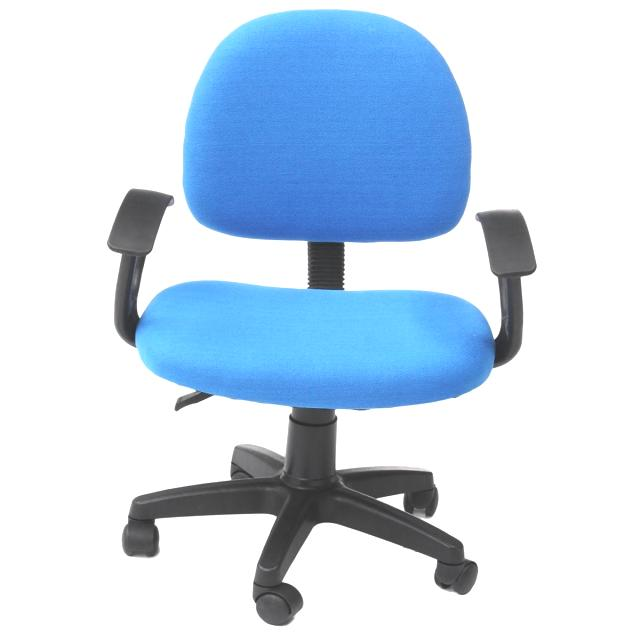Chair: (104, 8, 542, 632)
